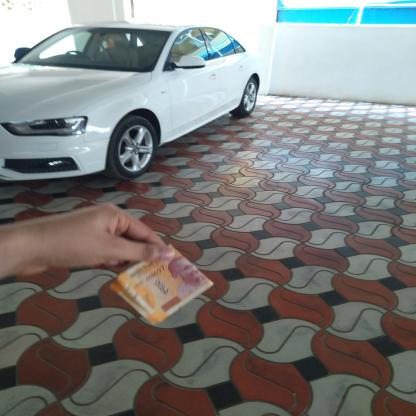New200Front: (120, 244, 206, 318)
